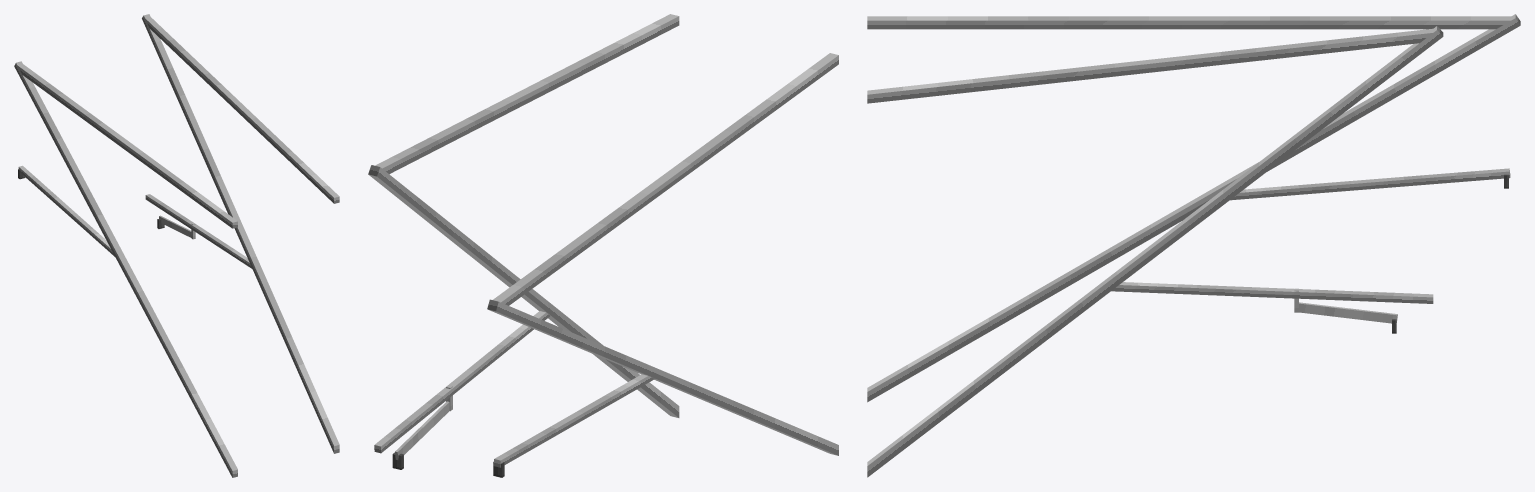
The model's file is cantilever_inner_12px.obj.
The picture shows the model from 3 angles, left to right: view 1: azimuth 30°, elevation 25°; view 2: azimuth 150°, elevation 25°; view 3: azimuth 270°, elevation 25°; orthographic projection. The views are drawn at different scales.
Visible parts, largest first — view 1: 9eb94f51-d2a9-4b5d-bf48-bf239c3135d4, b9c3193a-ddb1-40bc-a6d7-c5f87c6dc6c9, 3af1845b-bd25-4344-9cad-e9bb76ffc842, e608f53e-acf5-4003-b8d8-46f225152dc4, c697bc03-cab9-485b-9ea3-b1b0ade5fd9f, dd99e103-3f90-4d18-b773-a24eba51aedb; view 2: 3af1845b-bd25-4344-9cad-e9bb76ffc842, e608f53e-acf5-4003-b8d8-46f225152dc4, 9eb94f51-d2a9-4b5d-bf48-bf239c3135d4, b9c3193a-ddb1-40bc-a6d7-c5f87c6dc6c9, c697bc03-cab9-485b-9ea3-b1b0ade5fd9f, dd99e103-3f90-4d18-b773-a24eba51aedb, 4637882c-e55a-43e1-9b9d-126d965e1ce7; view 3: b9c3193a-ddb1-40bc-a6d7-c5f87c6dc6c9, 3af1845b-bd25-4344-9cad-e9bb76ffc842, 9eb94f51-d2a9-4b5d-bf48-bf239c3135d4, e608f53e-acf5-4003-b8d8-46f225152dc4, c697bc03-cab9-485b-9ea3-b1b0ade5fd9f, dd99e103-3f90-4d18-b773-a24eba51aedb, 4637882c-e55a-43e1-9b9d-126d965e1ce7.
Part boxes in pixels (box(x1,y1,x2,y2)): 9eb94f51-d2a9-4b5d-bf48-bf239c3135d4: box(14, 61, 237, 477); b9c3193a-ddb1-40bc-a6d7-c5f87c6dc6c9: box(142, 14, 339, 453); 3af1845b-bd25-4344-9cad-e9bb76ffc842: box(17, 64, 237, 228); e608f53e-acf5-4003-b8d8-46f225152dc4: box(145, 17, 339, 203); c697bc03-cab9-485b-9ea3-b1b0ade5fd9f: box(145, 194, 252, 268); dd99e103-3f90-4d18-b773-a24eba51aedb: box(18, 165, 114, 256); 3af1845b-bd25-4344-9cad-e9bb76ffc842: box(493, 53, 838, 305); e608f53e-acf5-4003-b8d8-46f225152dc4: box(375, 14, 679, 174); 9eb94f51-d2a9-4b5d-bf48-bf239c3135d4: box(487, 299, 838, 455); b9c3193a-ddb1-40bc-a6d7-c5f87c6dc6c9: box(368, 165, 679, 417); c697bc03-cab9-485b-9ea3-b1b0ade5fd9f: box(374, 311, 549, 453); dd99e103-3f90-4d18-b773-a24eba51aedb: box(493, 374, 654, 467); 4637882c-e55a-43e1-9b9d-126d965e1ce7: box(395, 401, 449, 459); b9c3193a-ddb1-40bc-a6d7-c5f87c6dc6c9: box(867, 26, 1443, 477); 3af1845b-bd25-4344-9cad-e9bb76ffc842: box(867, 16, 1511, 29); 9eb94f51-d2a9-4b5d-bf48-bf239c3135d4: box(867, 14, 1520, 402); e608f53e-acf5-4003-b8d8-46f225152dc4: box(867, 28, 1433, 103); c697bc03-cab9-485b-9ea3-b1b0ade5fd9f: box(1111, 282, 1433, 303); dd99e103-3f90-4d18-b773-a24eba51aedb: box(1230, 168, 1510, 200); 4637882c-e55a-43e1-9b9d-126d965e1ce7: box(1299, 302, 1397, 323).
Size of the model in its own units: 1.19 by 3.16 by 4.18.
